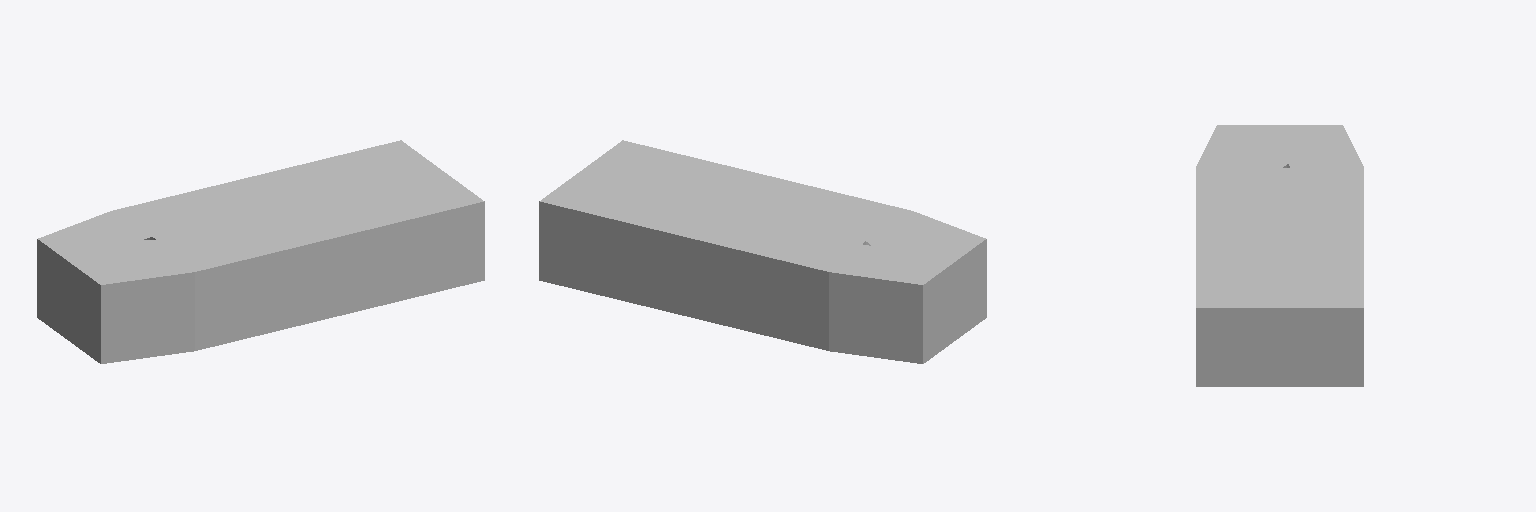
The model's file is BreakerSwitch.obj.
3 views of the same model, side by side, from view 1: azimuth 30°, elevation 25°; view 2: azimuth 150°, elevation 25°; view 3: azimuth 270°, elevation 25° (orthographic).
Parts seen in each view (by area): view 1: Cube_Cube.001; view 2: Cube_Cube.001; view 3: Cube_Cube.001.
Boxes of the visible parts, x1,y1,x2,y2 form: Cube_Cube.001: [37, 140, 484, 363]; Cube_Cube.001: [539, 140, 986, 363]; Cube_Cube.001: [1196, 125, 1363, 386].
Bounding box in the file's own units: 1.43 × 0.2901 × 0.555.